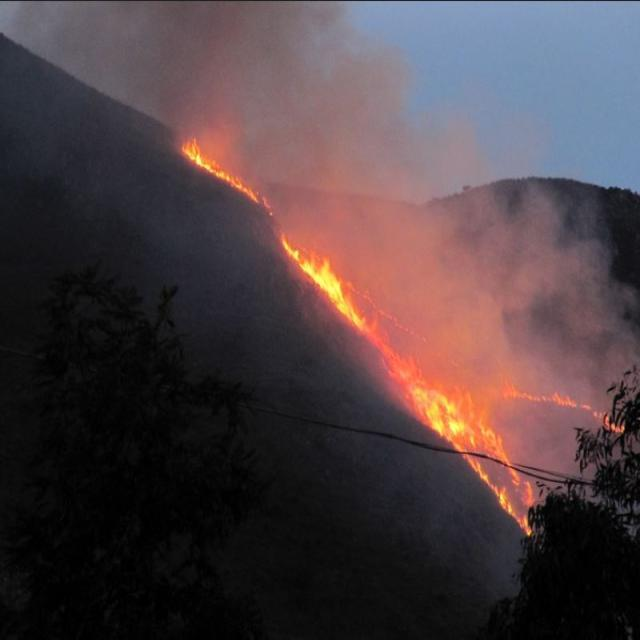Fire: (380, 345, 465, 438), (180, 137, 274, 217), (468, 444, 534, 536), (432, 396, 504, 459), (329, 276, 381, 350), (363, 290, 427, 344), (280, 230, 330, 288), (502, 380, 575, 408), (582, 403, 624, 433)
Smoke: (432, 210, 640, 374), (68, 0, 344, 102), (271, 39, 406, 224), (336, 84, 432, 286), (184, 0, 270, 149), (522, 407, 576, 471), (20, 1, 70, 56)
